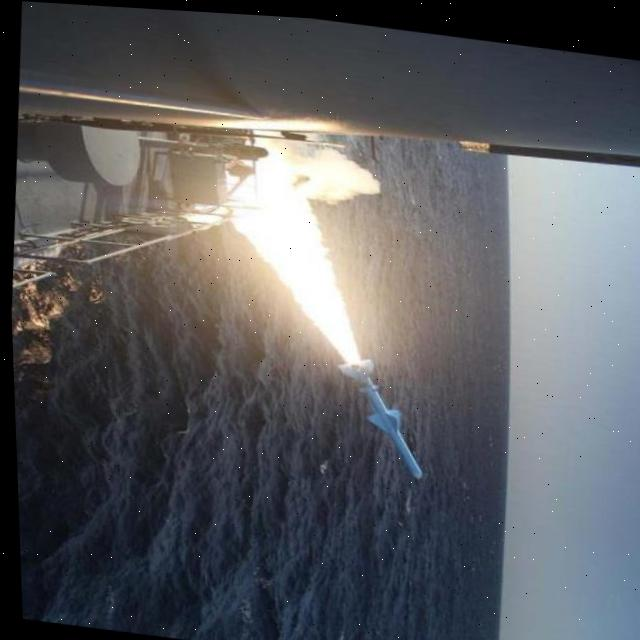missile: (329, 350, 431, 479)
